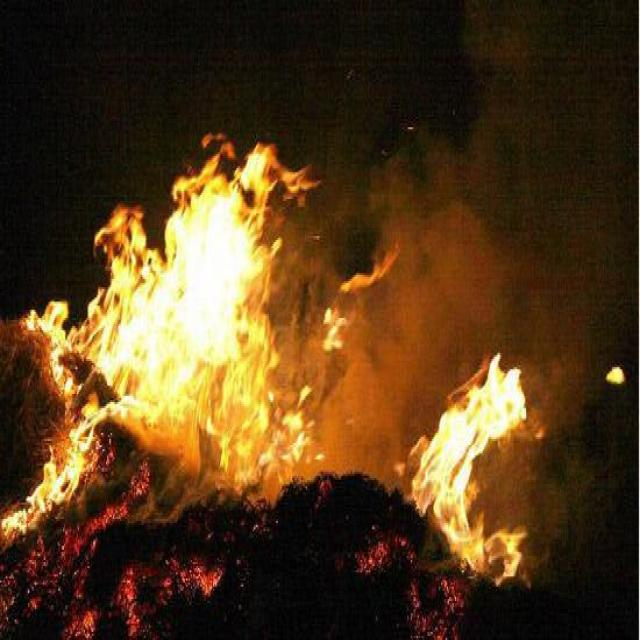fire: (8, 110, 312, 524), (399, 328, 534, 583)
